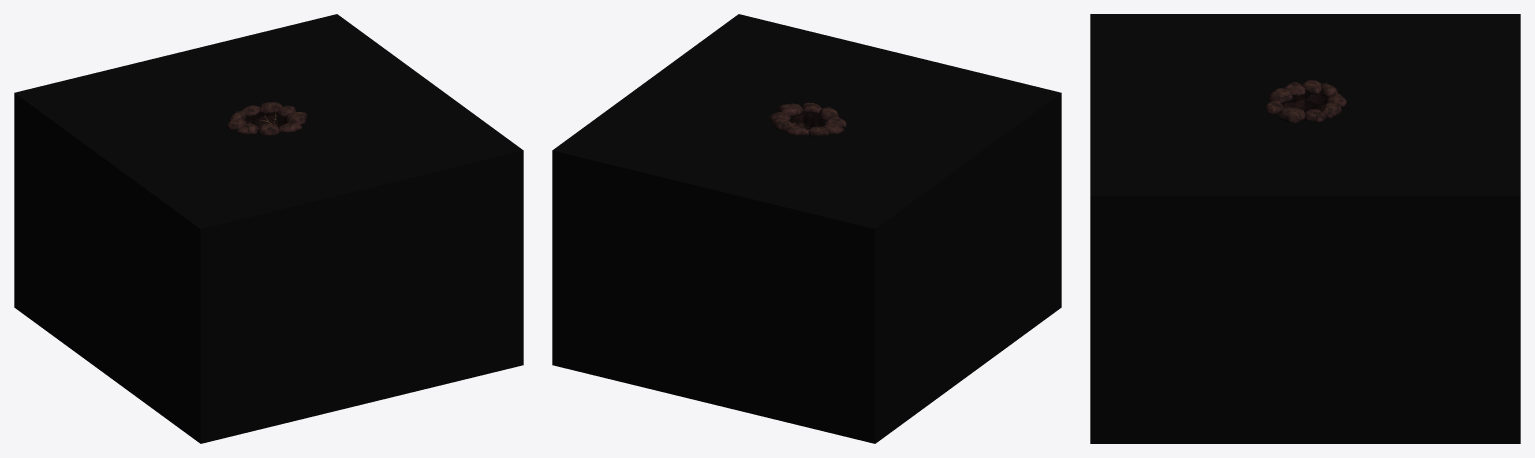
File: rabbitHole.fbx
3 renders of one model, left to right at view 1: azimuth 30°, elevation 25°; view 2: azimuth 150°, elevation 25°; view 3: azimuth 270°, elevation 25°, orthographic. The views are drawn at different scales.
Parts seen in each view (by area): view 1: blackBox, mound; view 2: blackBox, mound; view 3: blackBox, mound, rootsHole.
Part boxes in pixels (x1=…): blackBox: x1=14, y1=14, x2=523, y2=443; mound: x1=226, y1=102, x2=307, y2=136; blackBox: x1=552, y1=14, x2=1061, y2=443; mound: x1=769, y1=102, x2=846, y2=136; blackBox: x1=1090, y1=14, x2=1520, y2=443; mound: x1=1265, y1=80, x2=1346, y2=124; rootsHole: x1=1281, y1=92, x2=1327, y2=112.
Size of the model in its own units: 118 by 77.11 by 118.
